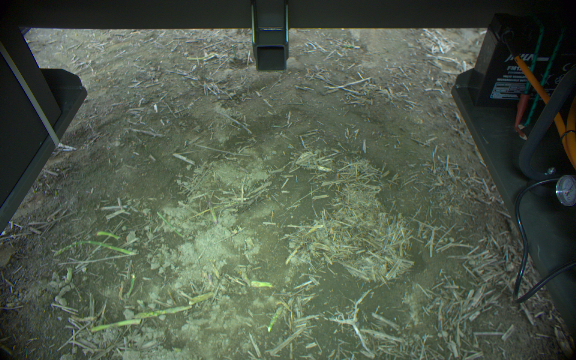aspa: (52, 238, 141, 260), (131, 304, 195, 319), (90, 317, 142, 330), (267, 304, 289, 333), (187, 289, 214, 303), (206, 197, 218, 228), (247, 276, 274, 289), (95, 230, 121, 242), (63, 266, 74, 283)
